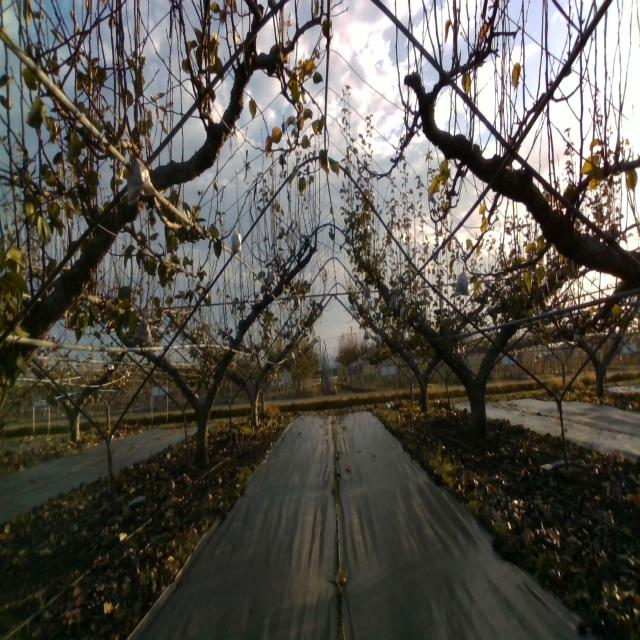pearbags: (126, 155, 158, 206), (453, 264, 471, 297), (231, 227, 242, 255), (266, 268, 278, 286)
